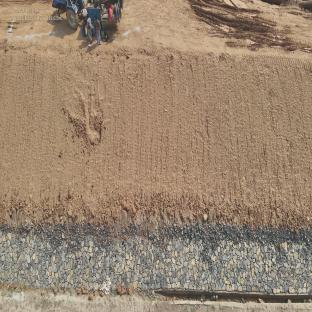rock_toe: (0, 223, 312, 290)
toe_drain: (60, 288, 312, 304)
